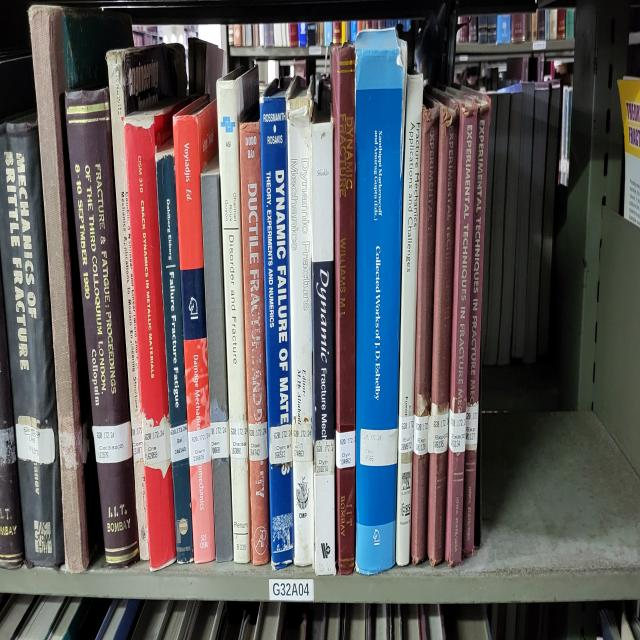Book: (65, 89, 139, 565), (30, 5, 90, 571), (0, 116, 64, 565), (355, 30, 406, 574), (125, 103, 178, 571), (106, 49, 149, 560), (172, 97, 218, 563), (216, 68, 259, 563), (260, 87, 294, 568), (156, 141, 194, 563), (445, 92, 478, 565), (428, 92, 458, 565), (239, 114, 270, 565), (396, 76, 424, 565), (286, 89, 314, 565), (331, 43, 356, 574), (411, 97, 439, 563), (462, 95, 490, 557), (201, 157, 232, 563), (311, 116, 336, 574)
Label: (16, 417, 55, 465), (142, 414, 171, 476), (92, 422, 132, 463), (360, 427, 398, 465), (59, 425, 89, 468), (428, 403, 449, 455), (269, 422, 292, 465), (189, 427, 211, 468), (292, 422, 312, 463), (170, 422, 189, 463), (315, 438, 335, 476), (335, 430, 355, 468), (449, 409, 466, 452), (249, 422, 268, 460), (211, 422, 229, 460), (465, 403, 479, 449), (230, 422, 248, 457), (414, 414, 429, 455), (399, 414, 414, 452), (131, 419, 144, 460)
